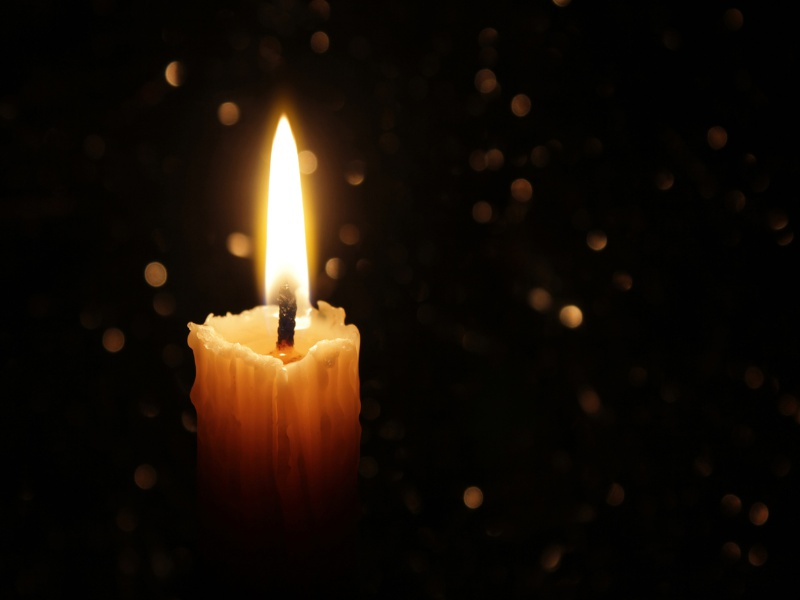fire: (259, 116, 312, 308)
